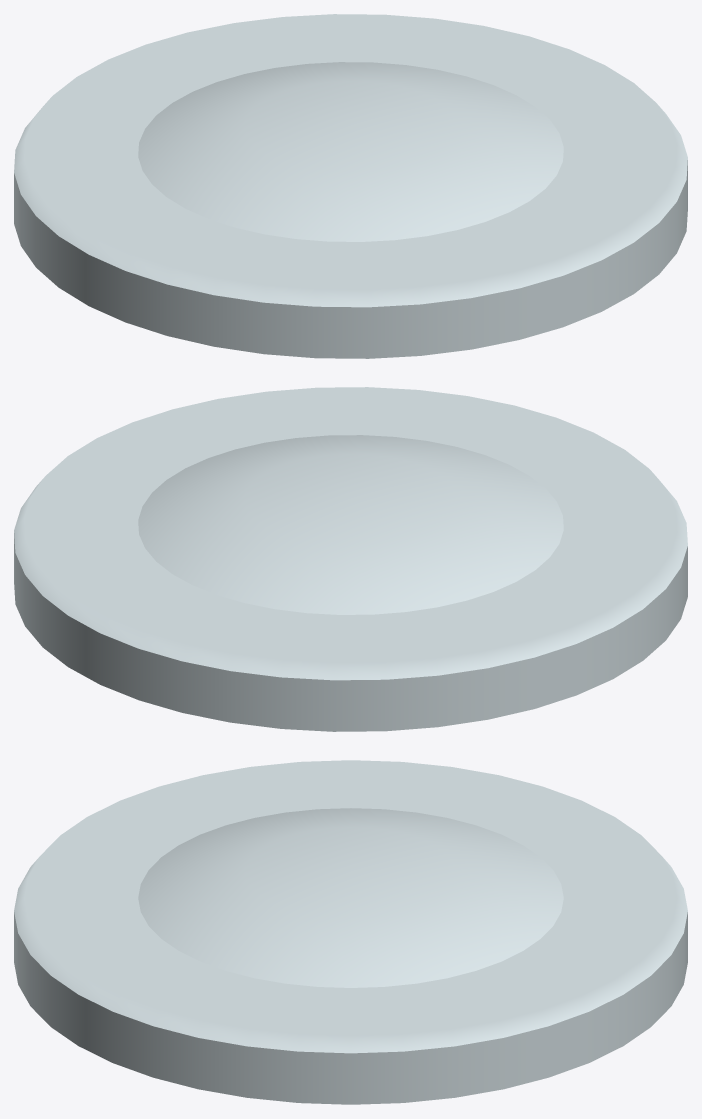
The model's file is SM_CupLid.glb.
The picture shows the model from 3 angles, top to bottom: view 1: azimuth 30°, elevation 25°; view 2: azimuth 150°, elevation 25°; view 3: azimuth 270°, elevation 25°; orthographic projection.
Parts seen in each view (by area): view 1: SM_CupLid; view 2: SM_CupLid; view 3: SM_CupLid.
Part boxes in pixels (x1=…): SM_CupLid: x1=14, y1=14, x2=687, y2=358; SM_CupLid: x1=14, y1=387, x2=687, y2=731; SM_CupLid: x1=14, y1=760, x2=687, y2=1104.
Size of the model in its own units: 0.095 by 0.0145 by 0.095.
1 material, 1 textured.
